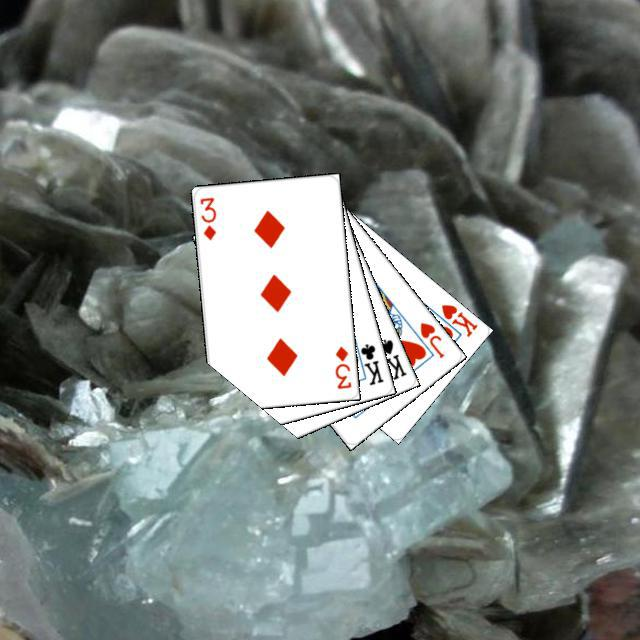3d: (330, 341, 353, 391), (195, 193, 218, 241)
Jh: (415, 317, 446, 360)
Kc: (350, 337, 386, 387)
Kh: (427, 299, 479, 339)
Ks: (374, 334, 408, 382)
